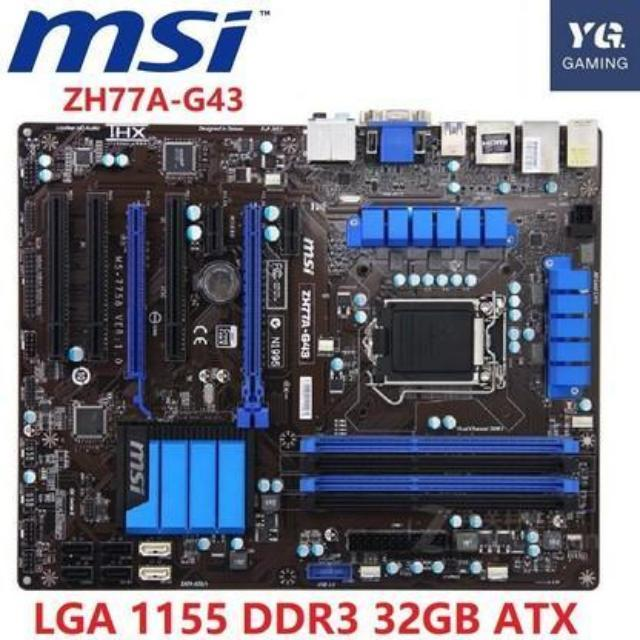Mainboard: (13, 110, 616, 598)
